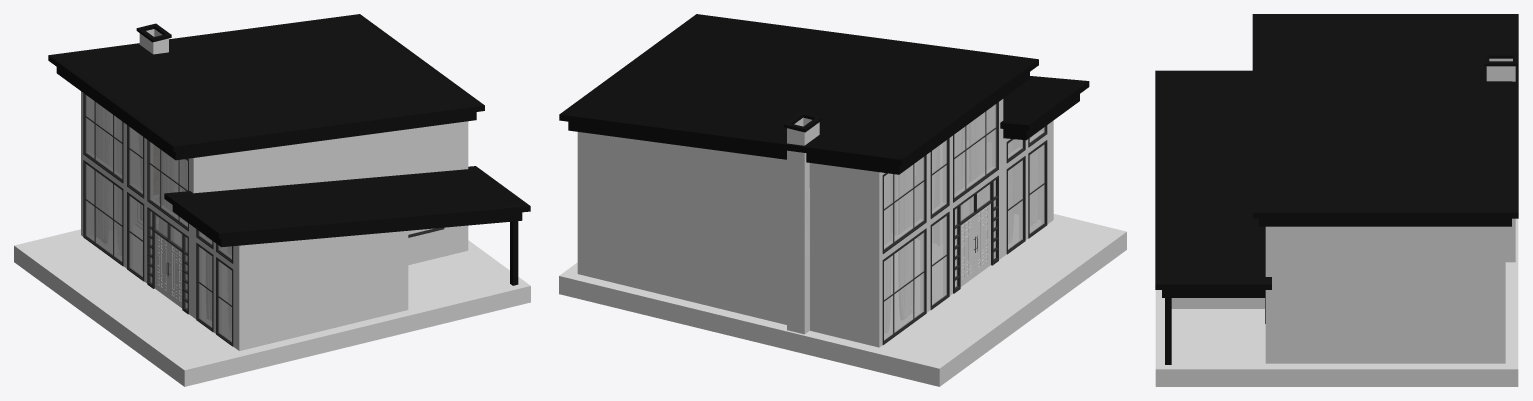
The model's file is Sample_House.fbx.
3 views of the same model, side by side, from view 1: azimuth 30°, elevation 25°; view 2: azimuth 150°, elevation 25°; view 3: azimuth 270°, elevation 25° (orthographic). The views are drawn at different scales.
Visible parts, largest first — view 1: Roofs, Walls, Fondasion, Windows, Doors_Frame, RDoor, LDoor, Chimney; view 2: Roofs, Walls, Fondasion, Windows, Chimney, Doors_Frame, LDoor, RDoor; view 3: Roofs, Walls, Fondasion, Chimney.
Part boxes in pixels (<box>): Roofs: <box>48,14,530,285</box>; Walls: <box>81,91,468,350</box>; Fondasion: <box>14,229,530,386</box>; Windows: <box>83,93,444,346</box>; Doors_Frame: <box>147,207,188,314</box>; RDoor: <box>155,232,169,298</box>; LDoor: <box>168,243,182,308</box>; Chimney: <box>136,23,171,54</box>; Roofs: <box>559,14,1089,174</box>; Walls: <box>577,99,1053,347</box>; Fondasion: <box>559,214,1126,386</box>; Windows: <box>882,102,1047,344</box>; Chimney: <box>784,111,822,334</box>; Doors_Frame: <box>953,175,998,293</box>; LDoor: <box>975,203,990,276</box>; RDoor: <box>960,215,975,286</box>; Roofs: <box>1155,14,1518,364</box>; Walls: <box>1171,226,1505,363</box>; Fondasion: <box>1155,218,1518,386</box>; Chimney: <box>1484,53,1517,262</box>.
Bounding box in the file's own units: 1120 × 739 × 1312.
